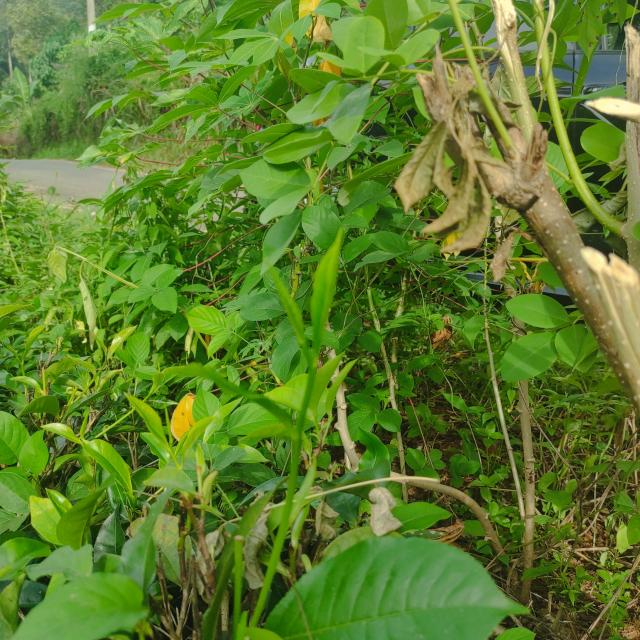unopened_leaf: (260, 258, 311, 360)
